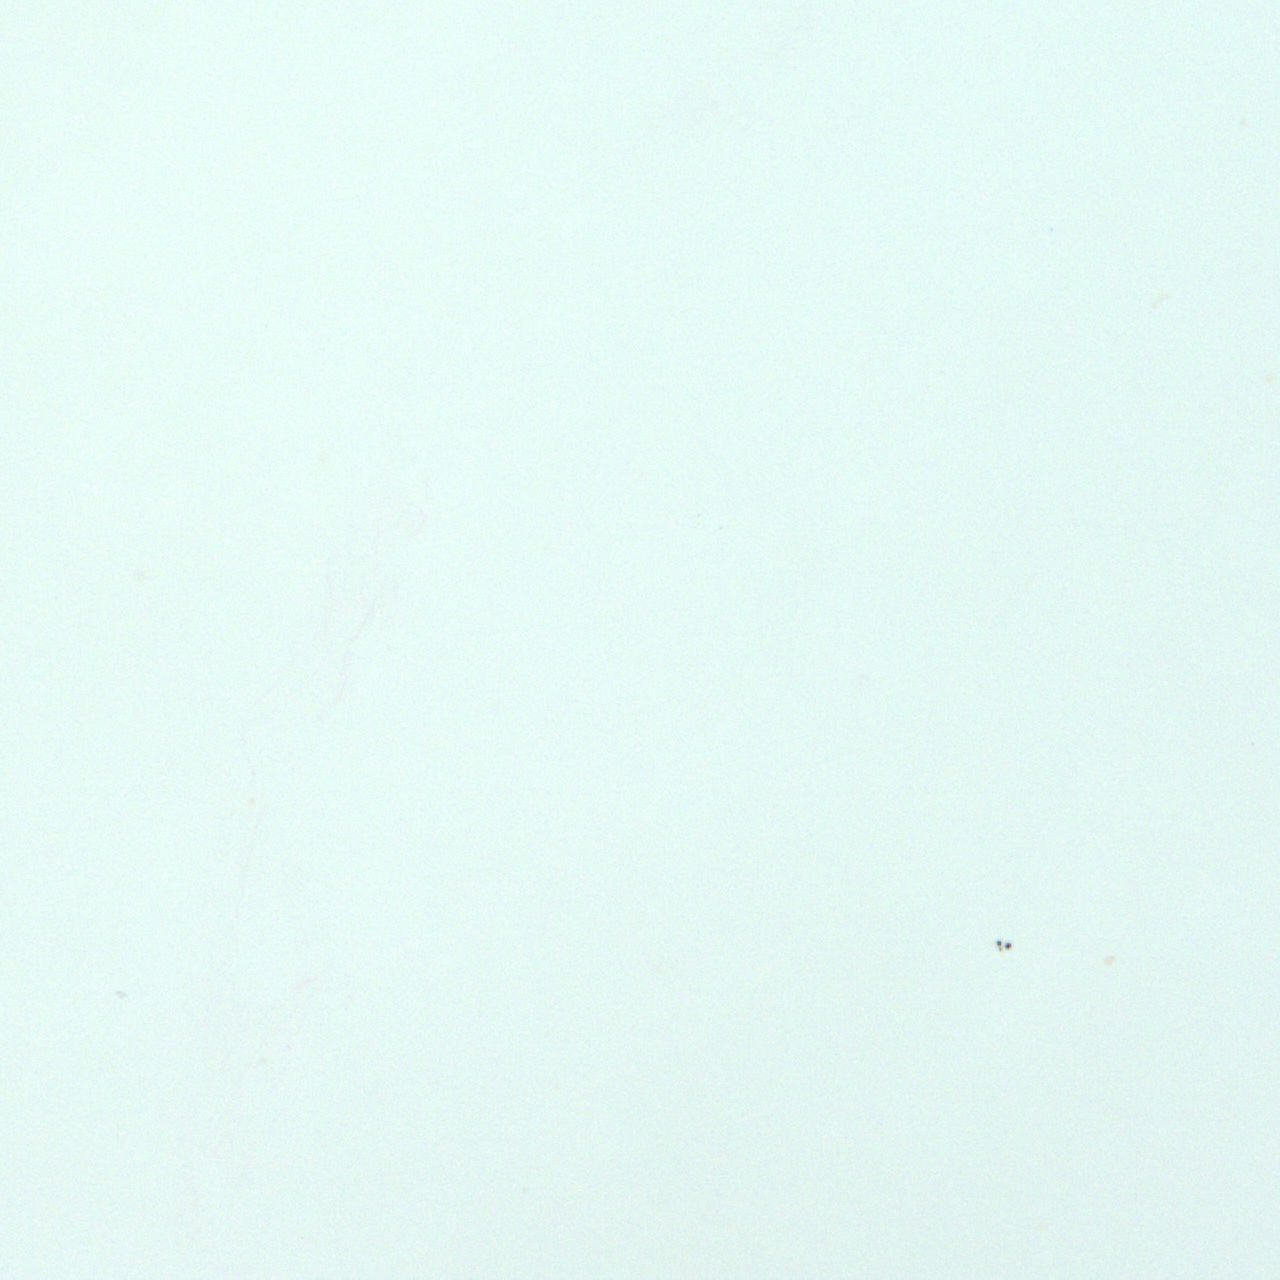dust: (1005, 942, 1012, 949), (996, 939, 1001, 947)
